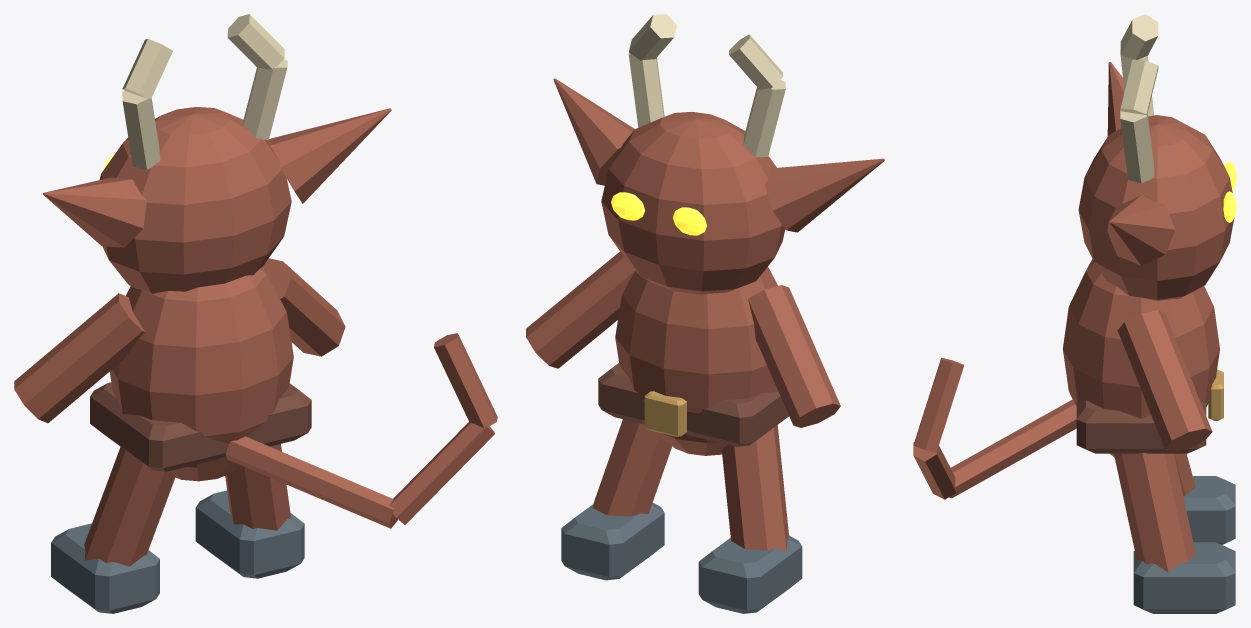
3 views of the same model, side by side, from view 1: azimuth 30°, elevation 25°; view 2: azimuth 150°, elevation 25°; view 3: azimuth 270°, elevation 25° (orthographic). The views are drawn at different scales.
Visible parts, largest first — view 1: ember-imp/body; view 2: ember-imp/body; view 3: ember-imp/body.
Boxes of the visible parts, <box> form: ember-imp/body: <box>14,14,497,613</box>; ember-imp/body: <box>526,14,884,613</box>; ember-imp/body: <box>913,14,1236,613</box>.
Size of the model in its own units: 0.9848 by 1.49 by 0.8219.
